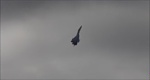maybay_muctieu: (72, 23, 85, 47)
